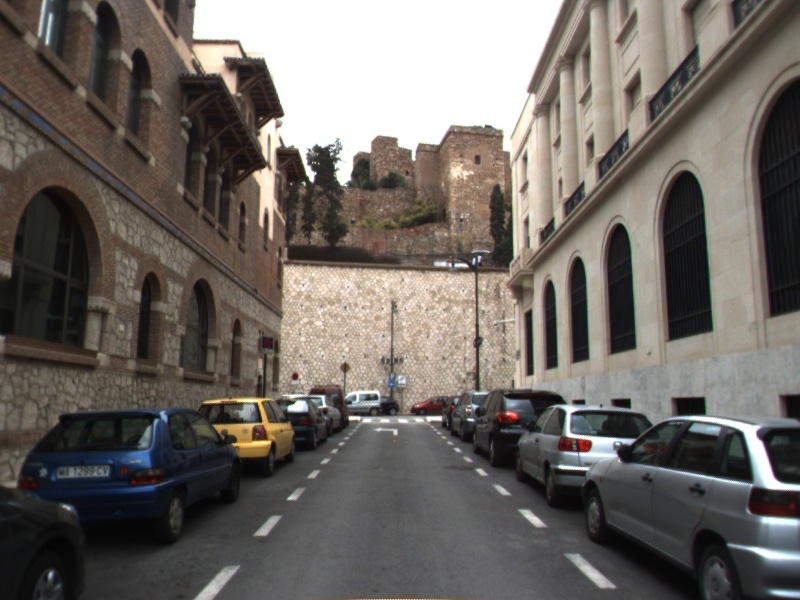LEFT: (371, 424, 400, 437)
